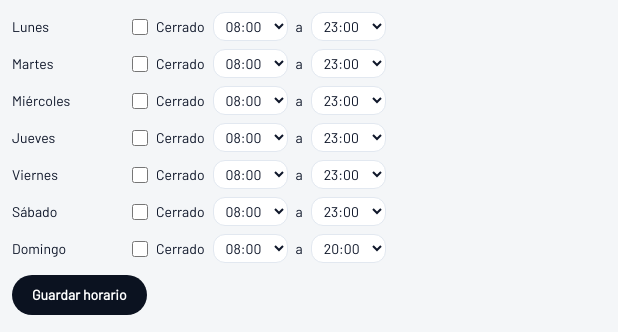
Test: EditorHorario › bloquea el guardado si el cierre no es posterior a la apertura
This screenshot has width=618, height=332.
Step 1. Select "07:00" in the dropdown named "Cierre Lunes" → [348, 26], box x1=311 y1=12 x2=386 y2=41
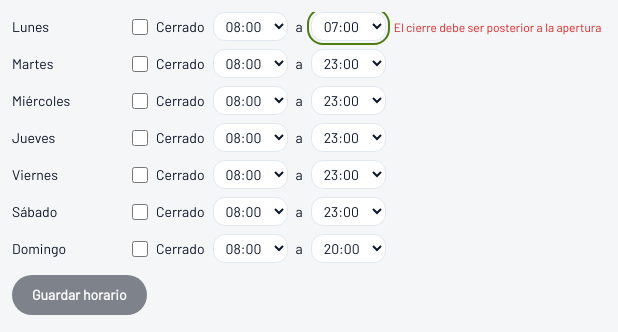
Now the text "El cierre debe ser posterior a la apertura" is shown, box x1=394 y1=18 x2=601 y2=34
Now the button "Guardar horario" is disabled, box x1=12 y1=275 x2=147 y2=315
